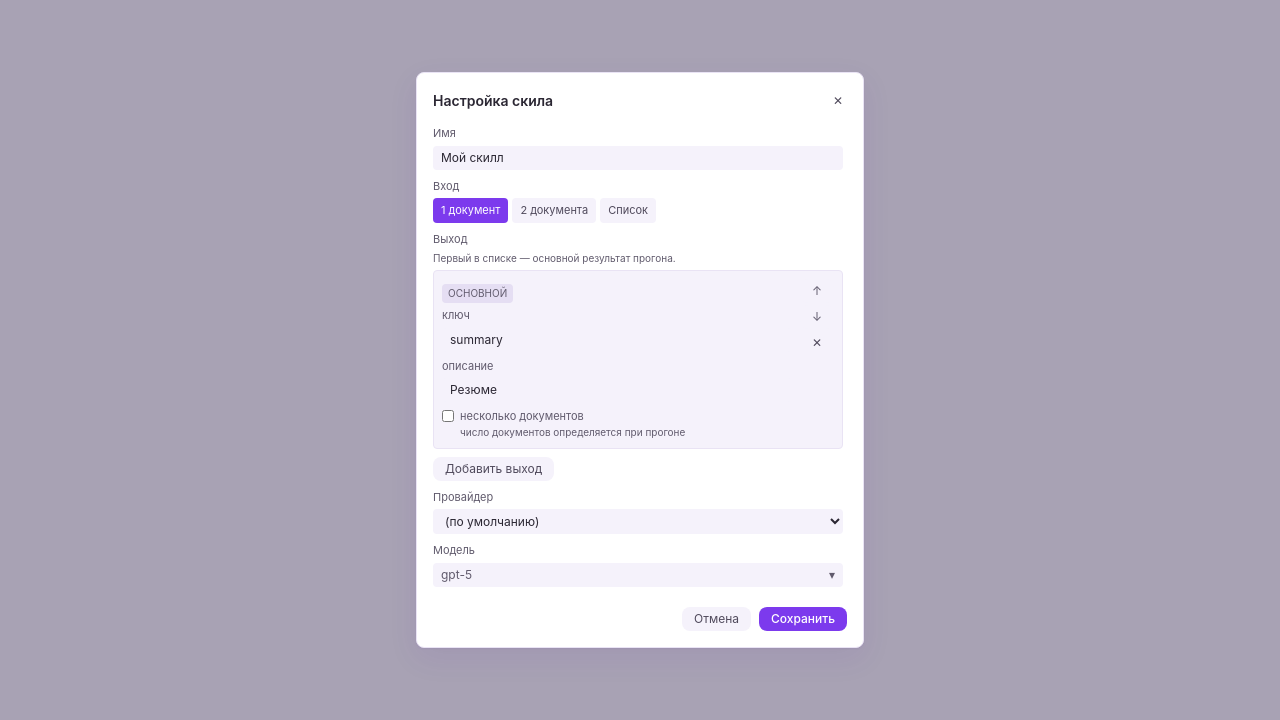
Test: SkillSettingsModal outputs block › routes an addressed 422 to the matching row and keeps the rest in the error banner
Click the button "Сохранить": (803, 619) [759, 607, 847, 631]
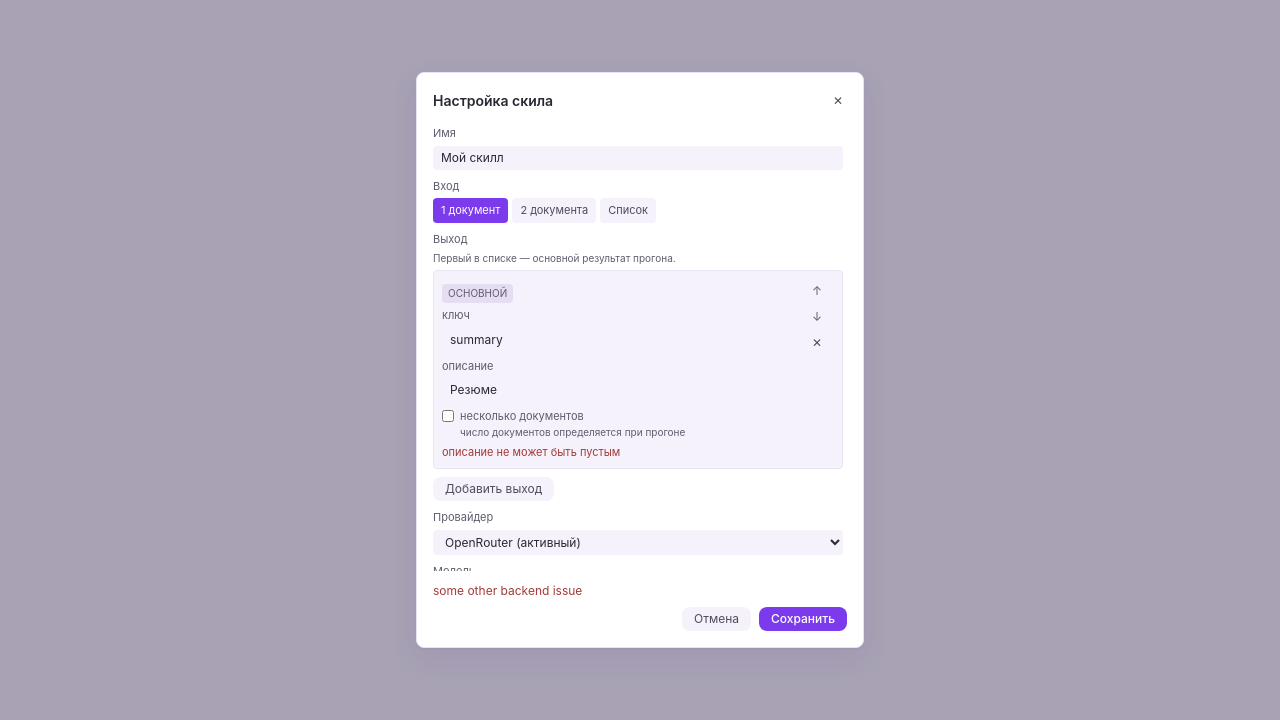
expect the text "описание не может быть пустым" is shown: met, box [442, 444, 620, 458]
expect the text "some other backend issue" is shown: met, box [433, 583, 582, 598]
